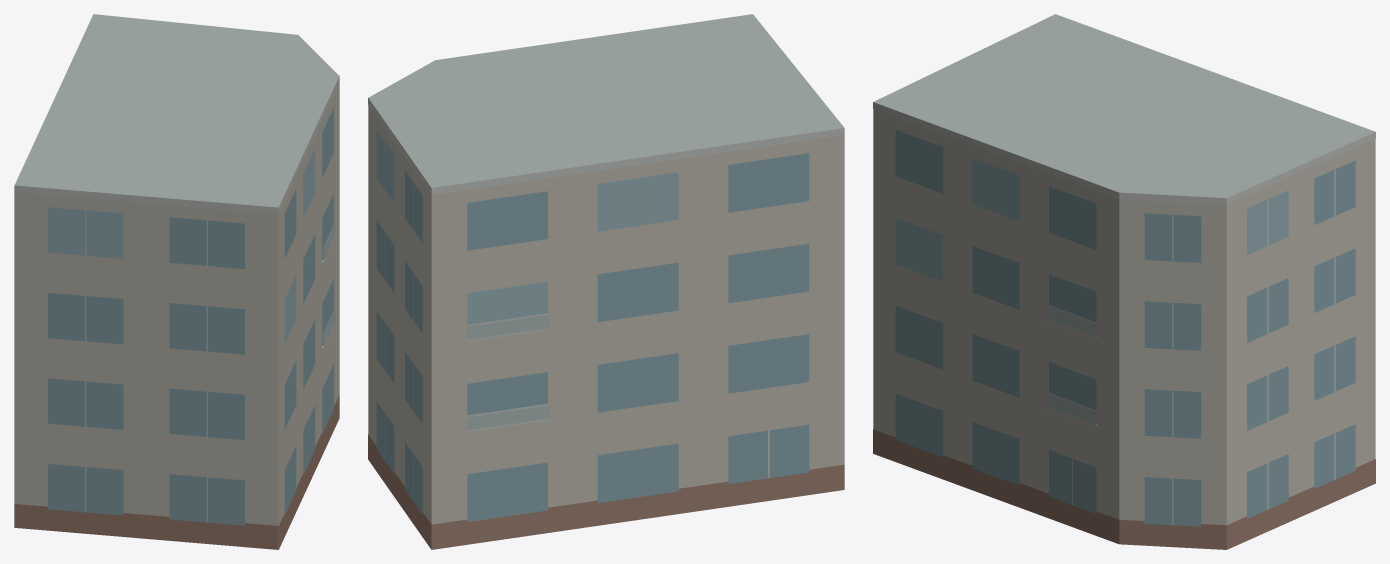
The model's file is survey-upis-32706010.glb.
3 views of the same model, side by side, from view 1: azimuth 30°, elevation 25°; view 2: azimuth 150°, elevation 25°; view 3: azimuth 270°, elevation 25° (orthographic). The views are drawn at different scales.
Visible parts, largest first — view 1: survey-upis-32706010.tmp; view 2: survey-upis-32706010.tmp; view 3: survey-upis-32706010.tmp.
Part boxes in pixels (x1=…): survey-upis-32706010.tmp: x1=14, y1=14, x2=339, y2=549; survey-upis-32706010.tmp: x1=368, y1=14, x2=844, y2=549; survey-upis-32706010.tmp: x1=873, y1=14, x2=1375, y2=549.
Bounding box in the file's own units: 13.93 × 12.4 × 16.07.
